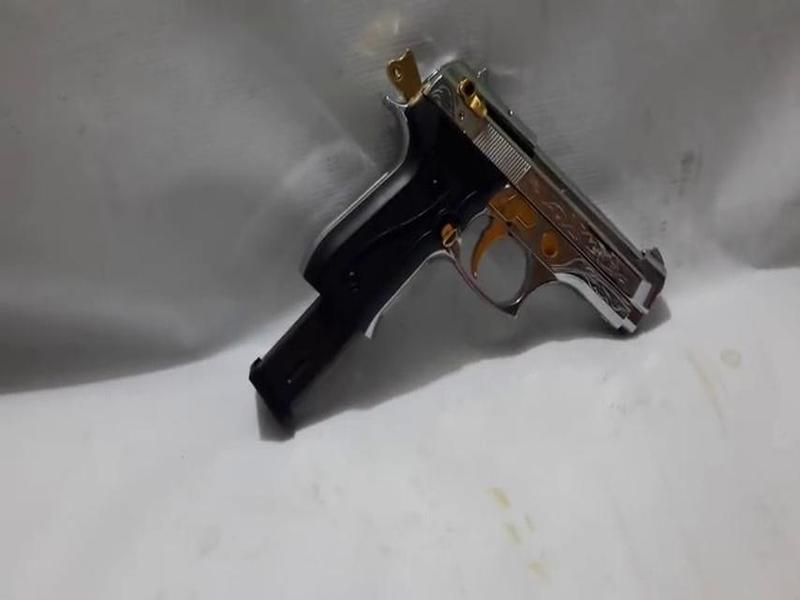Pistola: (287, 46, 676, 359)
